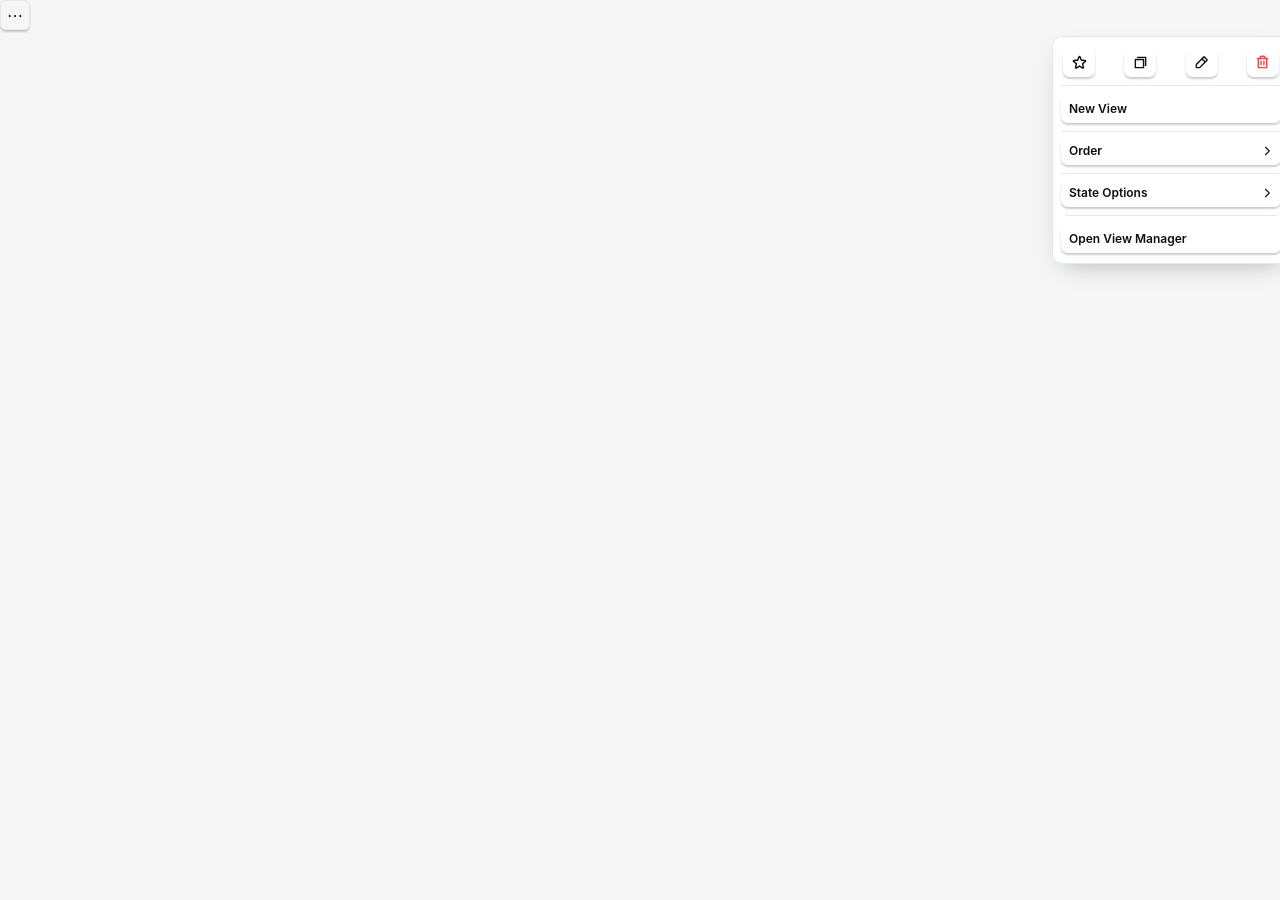
Scenario: ViewActionsDropdown › opens a confirmation modal before deleting the active view
Click the button named "view actions" at (15, 15), box x1=0 y1=0 x2=30 y2=30
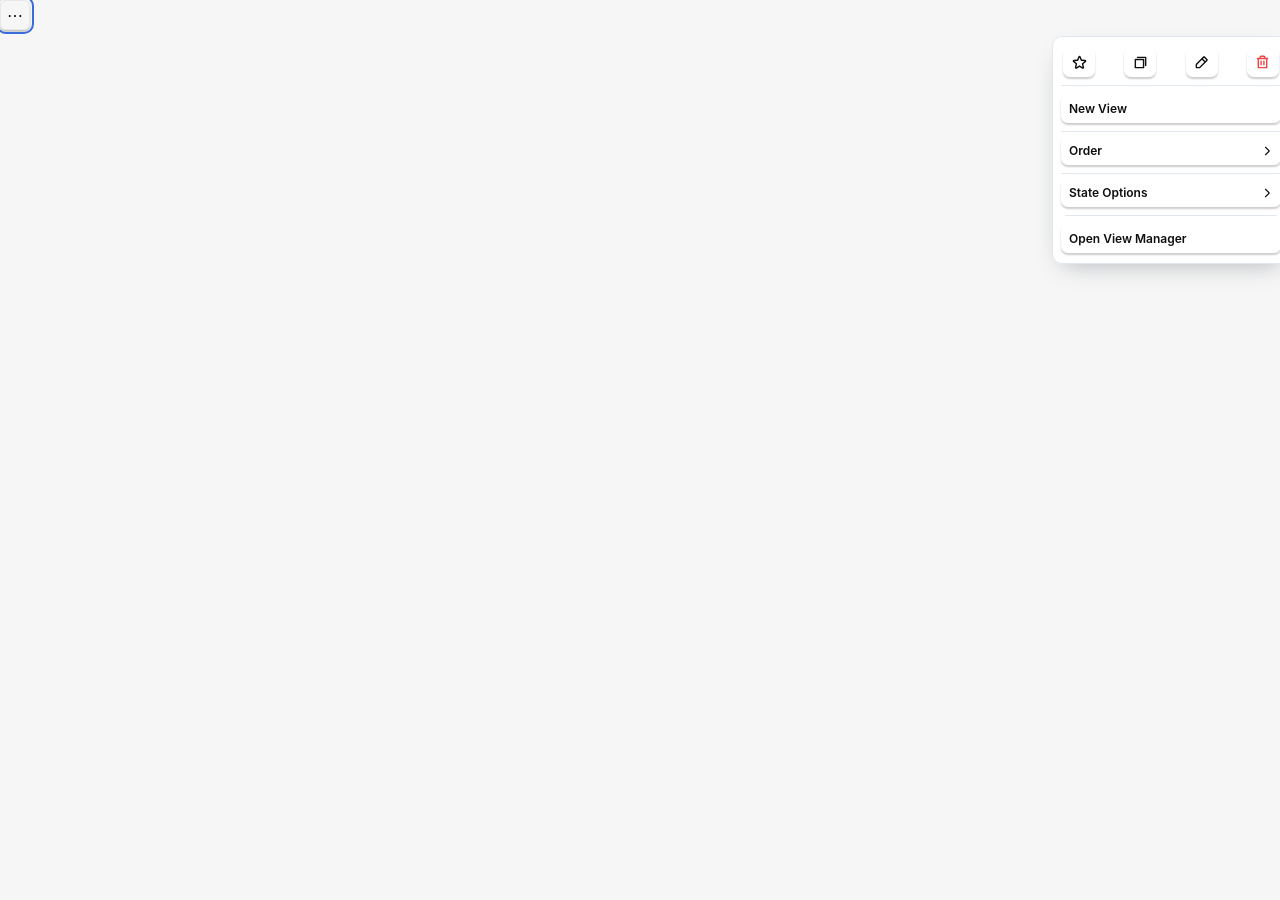
Click the button named "delete" at (1263, 62), box x1=1247 y1=47 x2=1279 y2=77
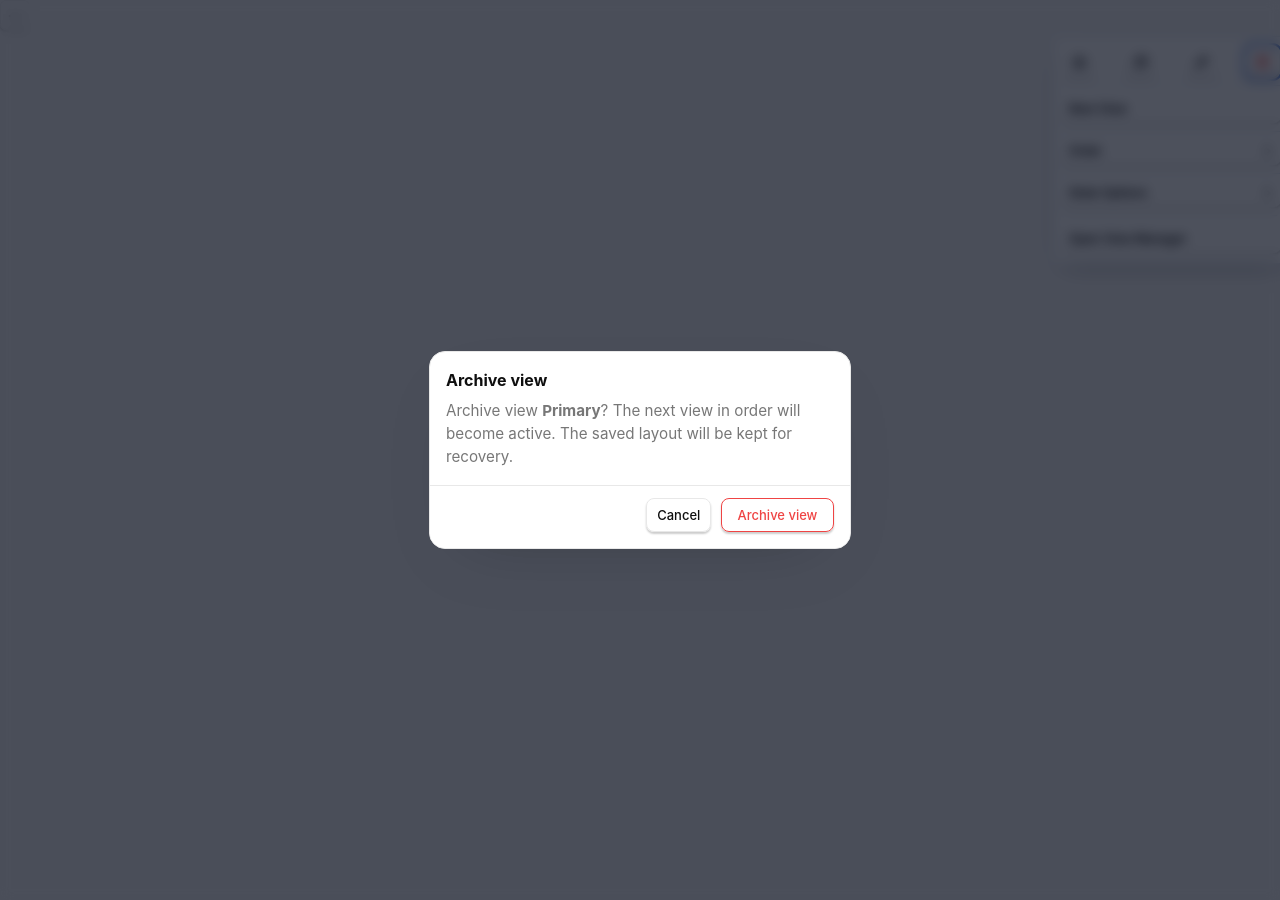
Expected: the dialog shows "Archive view", x1=446 y1=370 x2=547 y2=390
Expected: the dialog shows "saved layout will be kept for recovery", x1=446 y1=401 x2=800 y2=466
